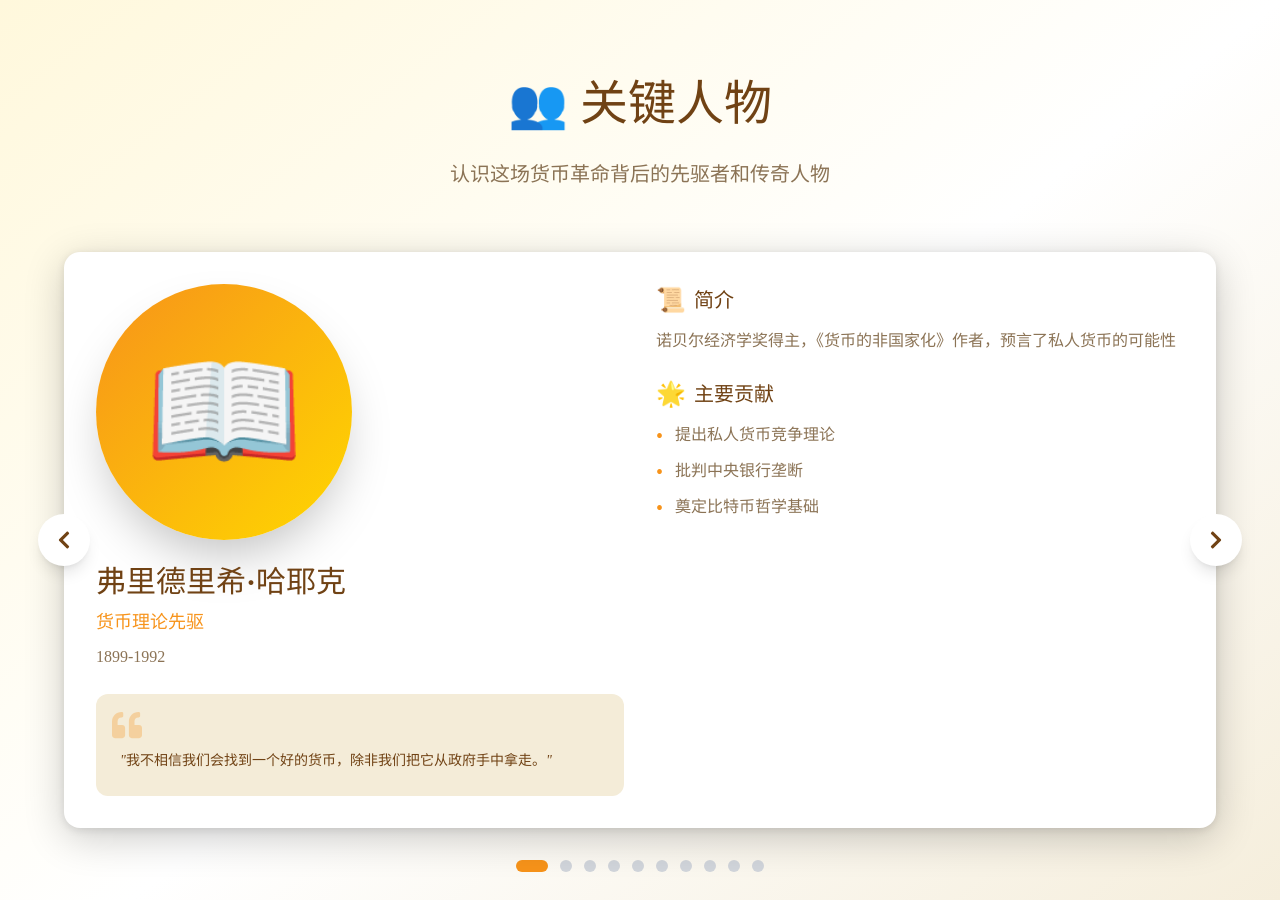
Scenario: FiguresGallery › navigates forward on right swipe (touch)
The image size is (1280, 900).
Press the mouse on the element that starts with "弗里德里希·哈耶克" at [640, 540], box [64,252,1216,828]
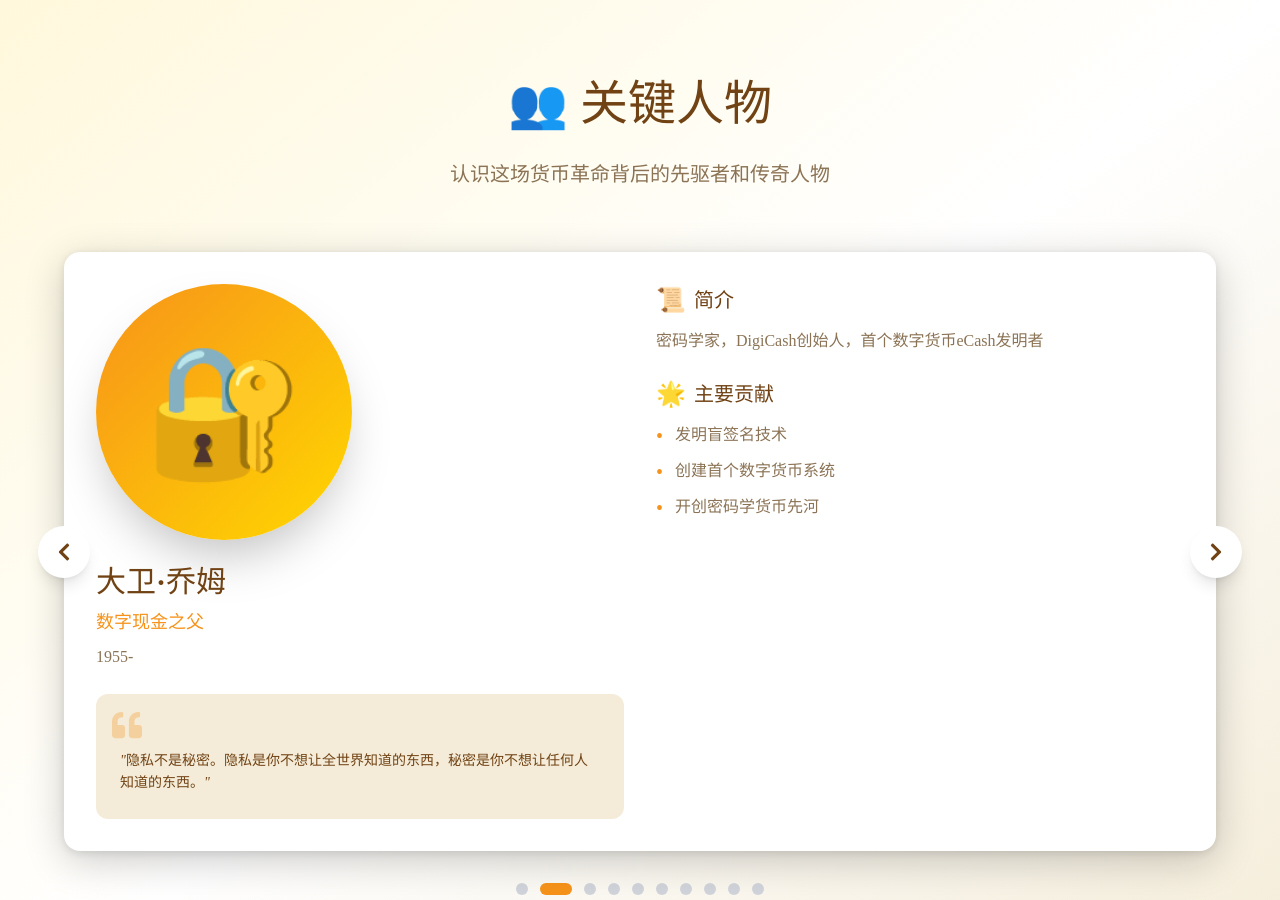
Expected: the heading "大卫·乔姆" is shown, [96,565,226,598]
